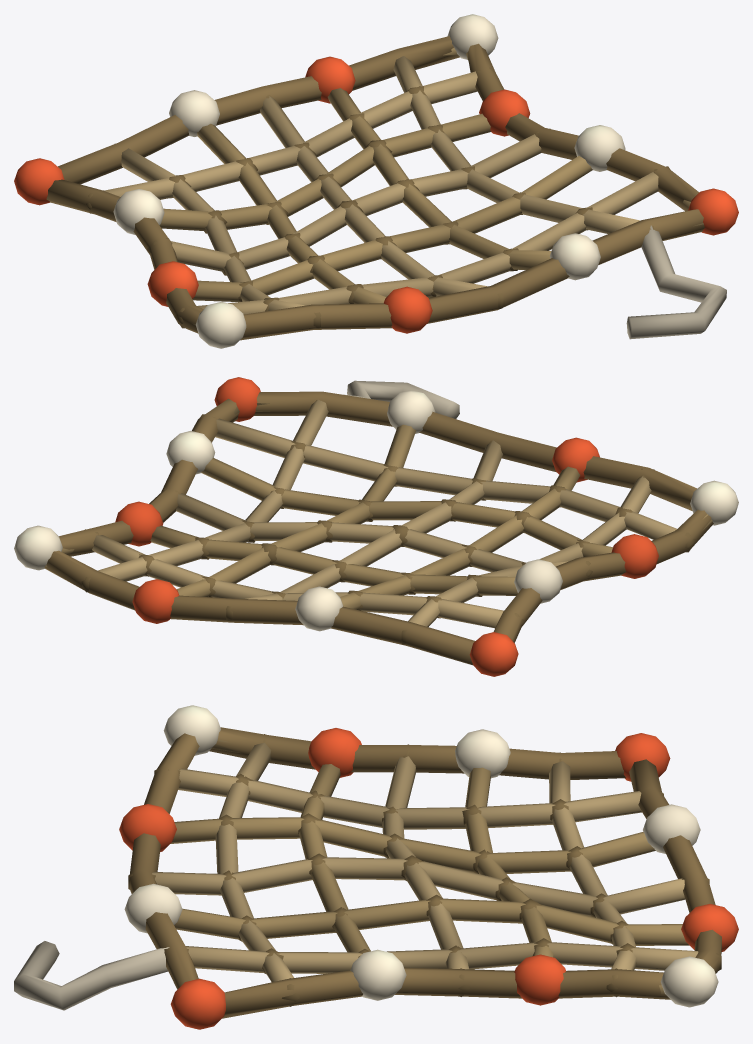
The model's file is deco-red.glb.
3 views of the same model, one above another, from view 1: azimuth 30°, elevation 25°; view 2: azimuth 150°, elevation 25°; view 3: azimuth 270°, elevation 25° (orthographic). The views are drawn at different scales.
Visible parts, largest first — view 1: Net, Floats, Rope; view 2: Net, Floats, Rope; view 3: Net, Floats, Rope.
Part boxes in pixels (x1,y1,x2,y2): Net: (46, 36, 704, 340); Floats: (14, 14, 738, 348); Rope: (626, 225, 726, 339); Net: (44, 391, 713, 665); Floats: (14, 377, 738, 676); Rope: (344, 380, 459, 418); Net: (128, 727, 721, 1018); Floats: (119, 705, 738, 1029); Rope: (14, 941, 169, 1010).
Bounding box in the file's own units: 0.9333 × 0.1215 × 1.
